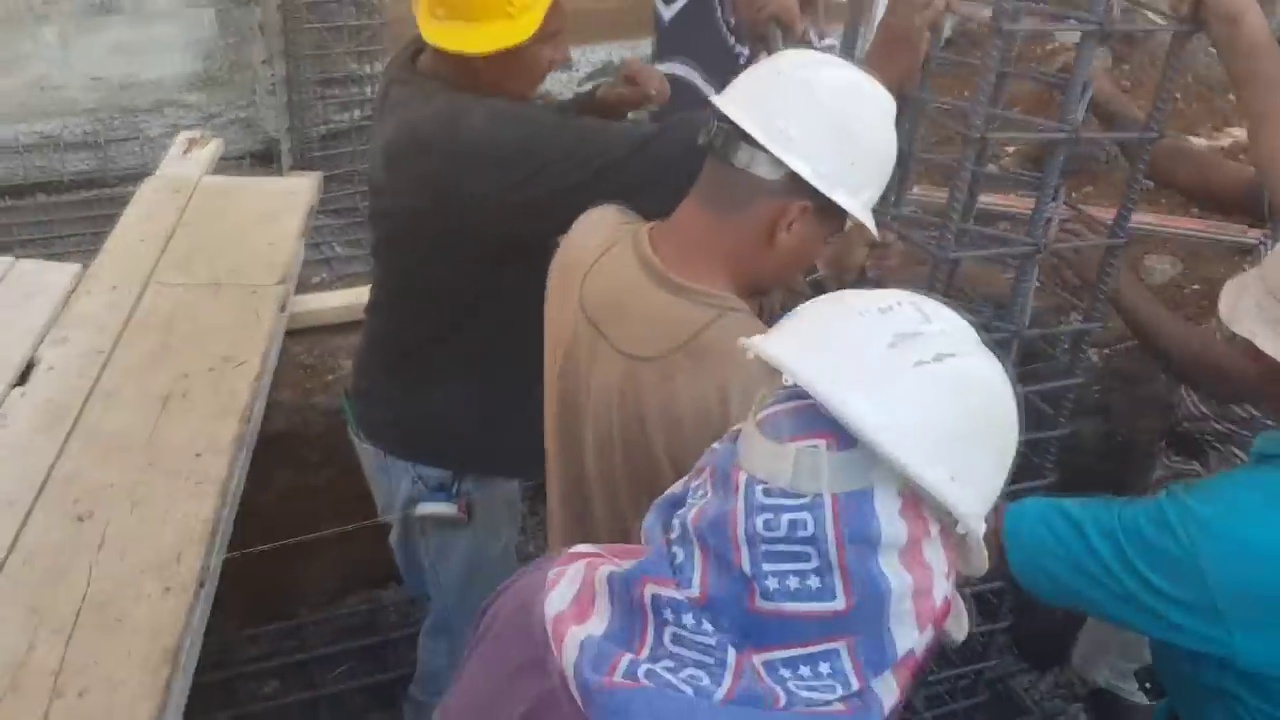helmet: (761, 290, 1014, 577), (705, 48, 903, 241), (411, 5, 552, 64)
helmet-off: (1214, 258, 1276, 382)
helmet-on: (664, 286, 1021, 640), (646, 54, 906, 310), (394, 0, 566, 111)
person: (334, 2, 700, 717), (430, 282, 1026, 712), (530, 46, 902, 533), (999, 259, 1280, 718)
